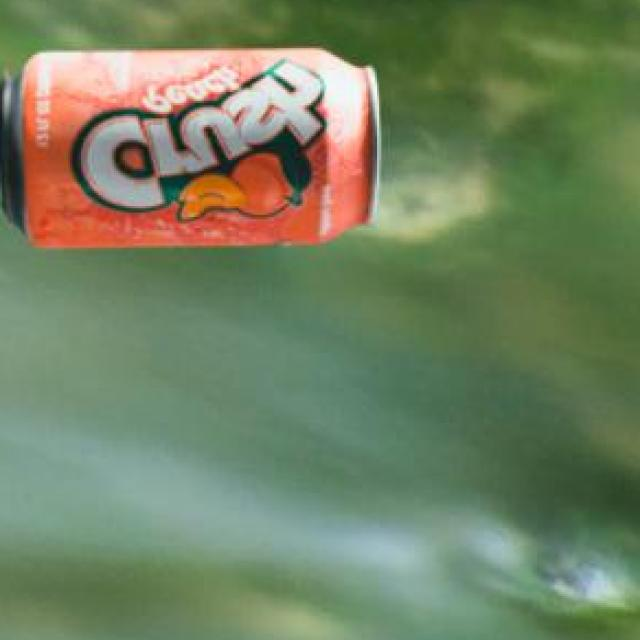logam: (0, 52, 376, 251)
